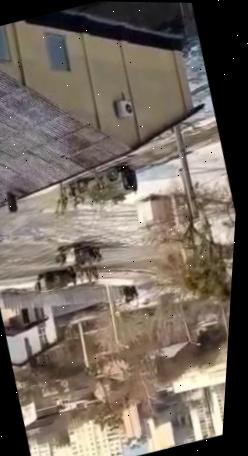armored_car: (67, 160, 141, 214), (46, 235, 100, 274), (30, 264, 78, 295)
